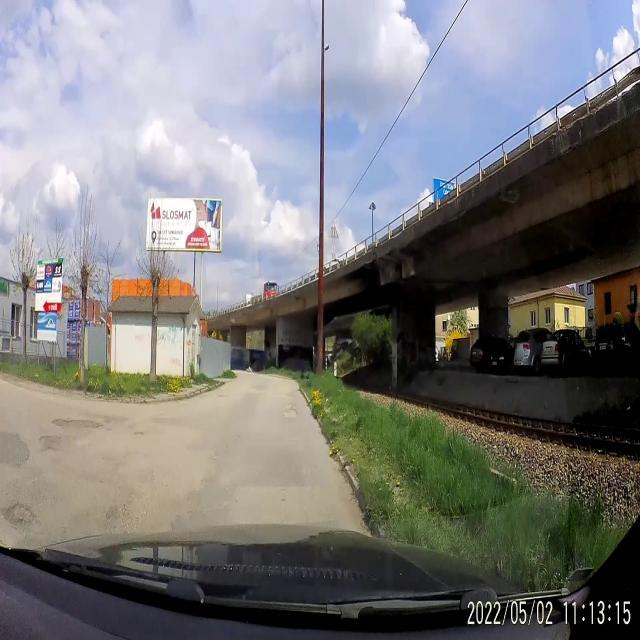Pothole: (98, 488, 160, 542), (52, 409, 114, 441), (1, 496, 36, 546), (29, 432, 72, 469), (282, 394, 304, 430), (216, 392, 230, 399)
